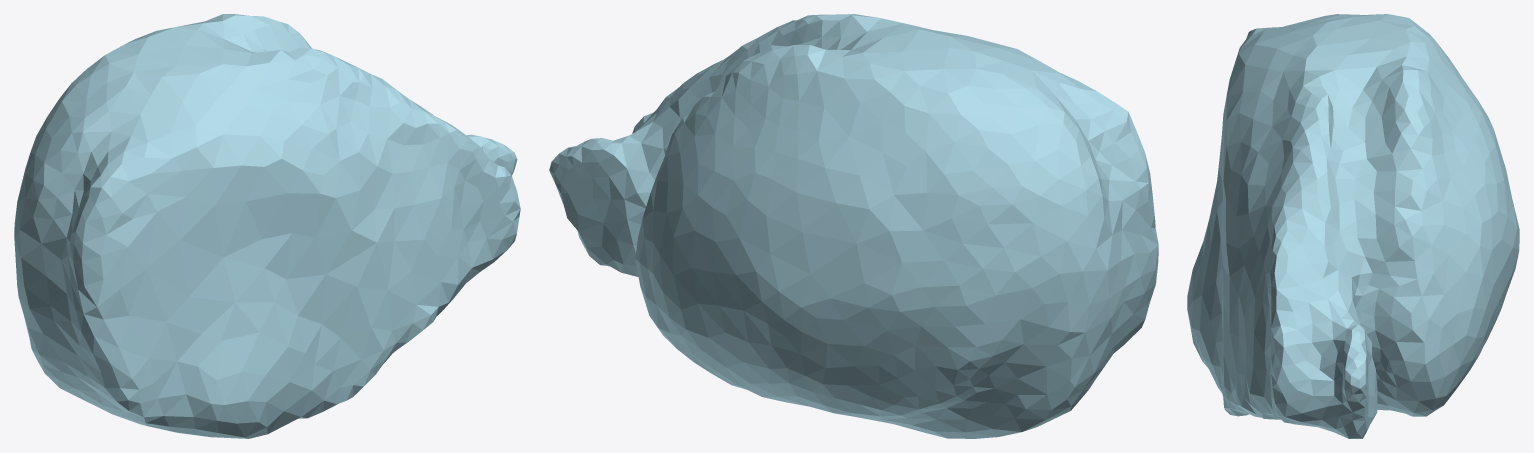
File: livertumor2.obj
3 views of the same model, side by side, from view 1: azimuth 30°, elevation 25°; view 2: azimuth 150°, elevation 25°; view 3: azimuth 270°, elevation 25° (orthographic). The views are drawn at different scales.
Visible parts, largest first — view 1: grp1; view 2: grp1; view 3: grp1.
Boxes of the visible parts, box(x1,y1,x2,y2) form: grp1: box(14, 14, 520, 438); grp1: box(549, 14, 1158, 438); grp1: box(1187, 14, 1519, 438).
Bounding box in the file's own units: 77.31 × 51.13 × 44.37.
